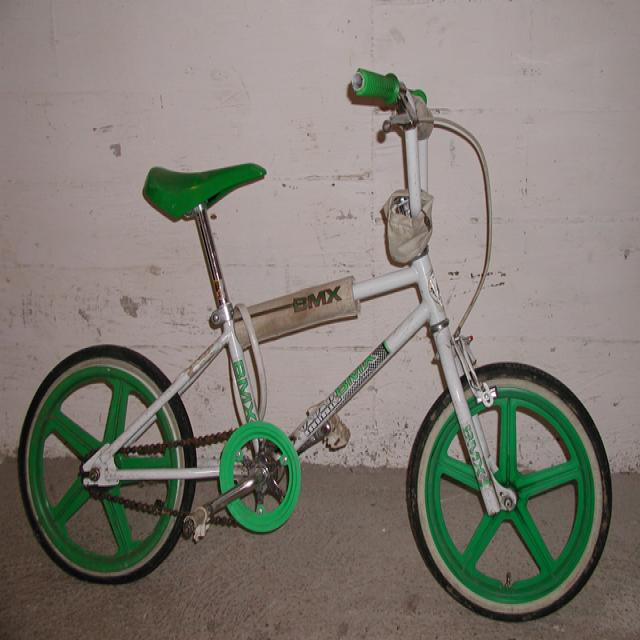bicycle: (17, 67, 612, 622)
